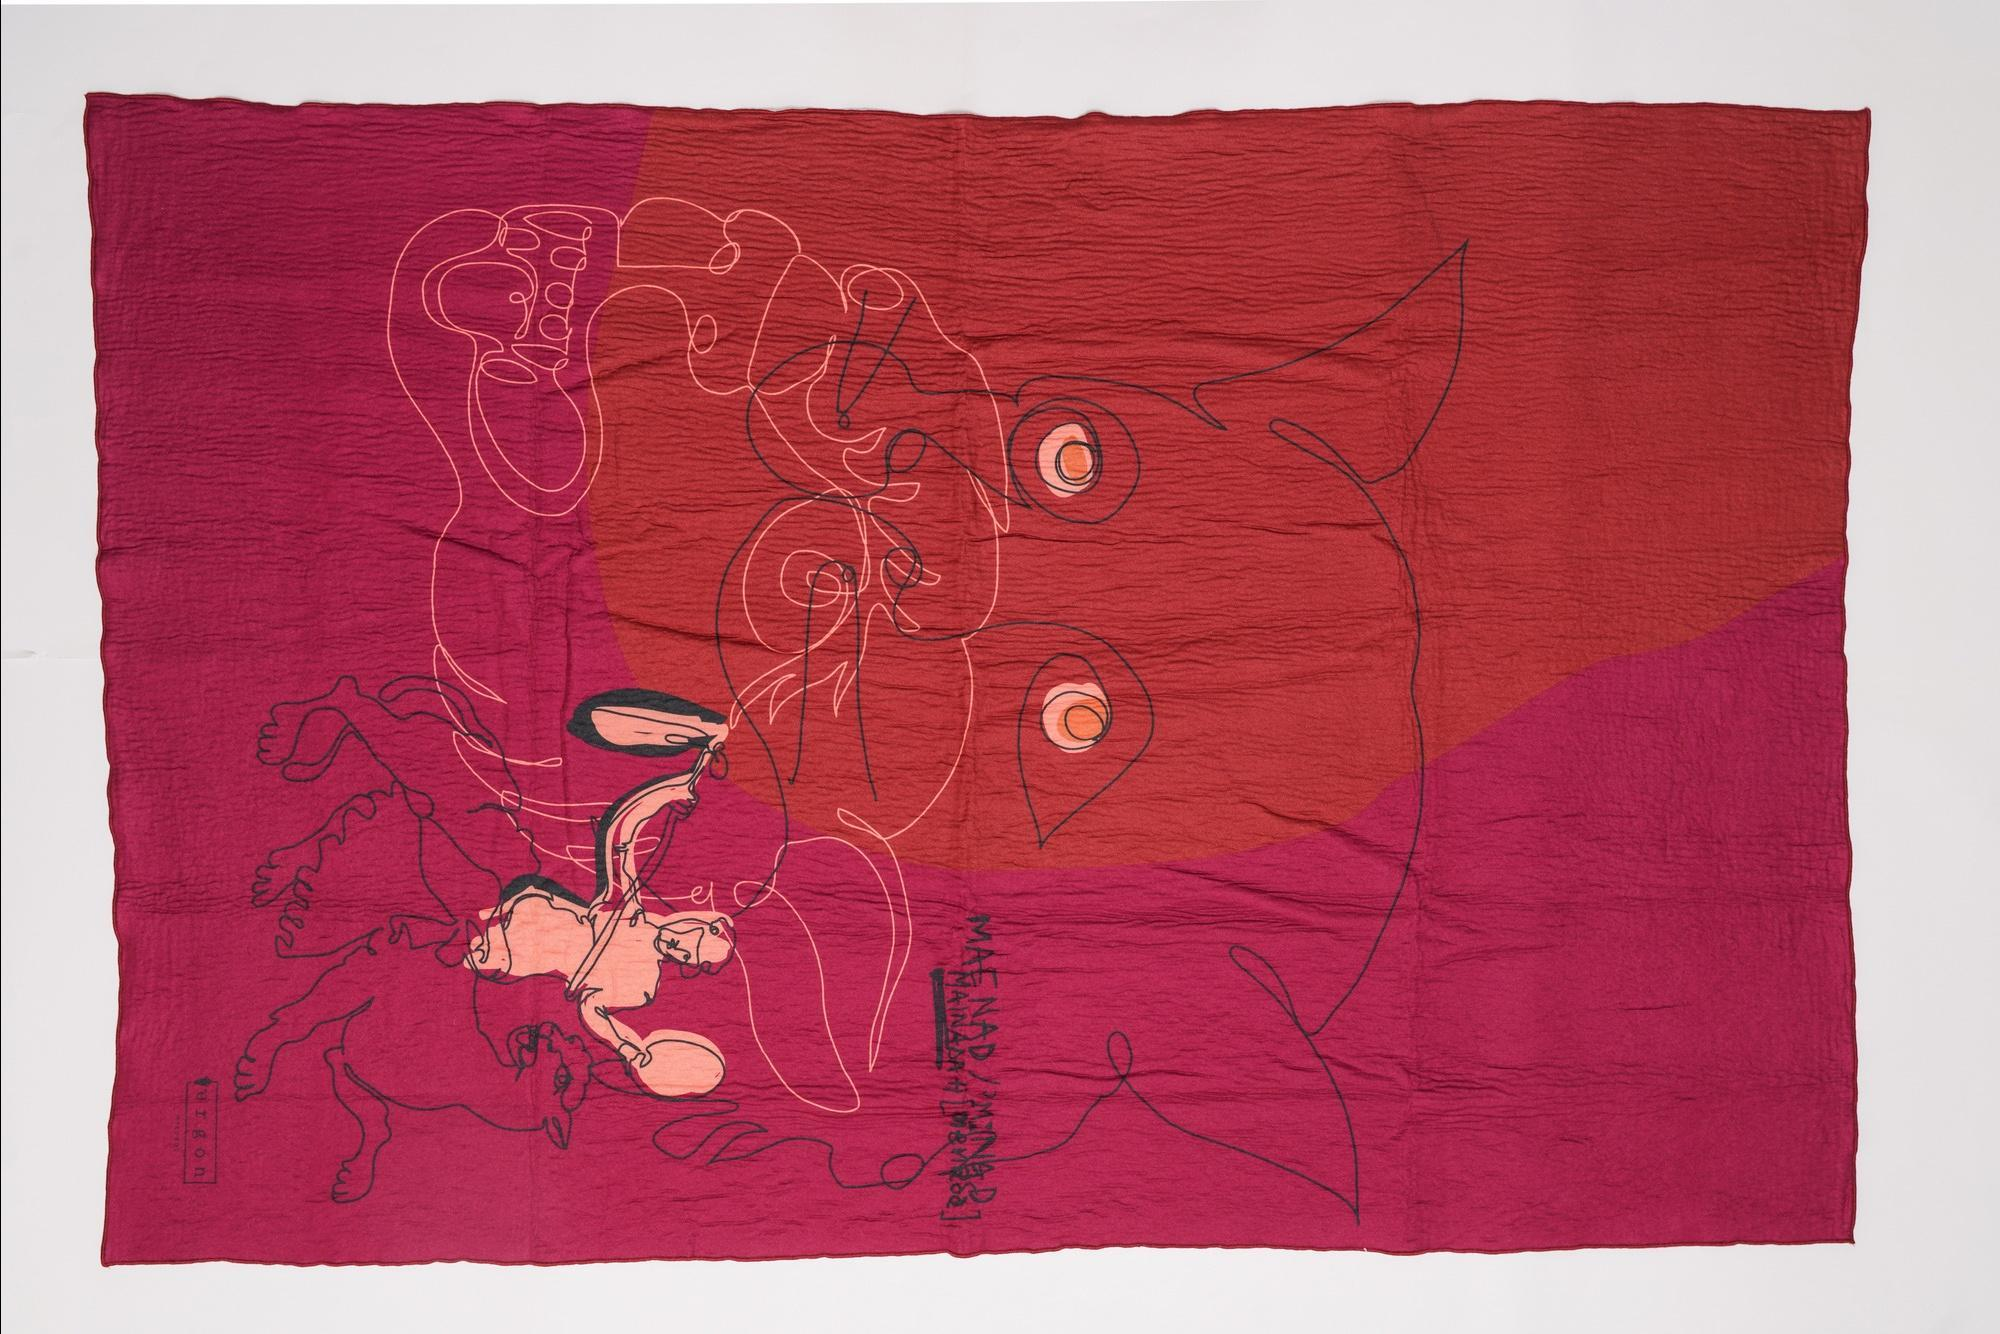towel: (43, 70, 1946, 1334)
